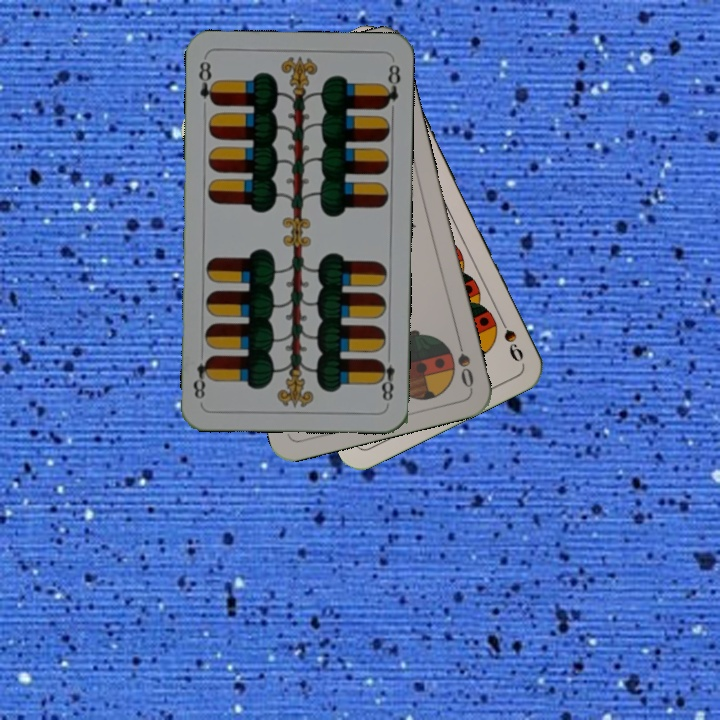E8: (194, 57, 219, 109), (374, 348, 397, 404)
S9: (493, 309, 526, 365)
SO: (452, 332, 477, 391)
